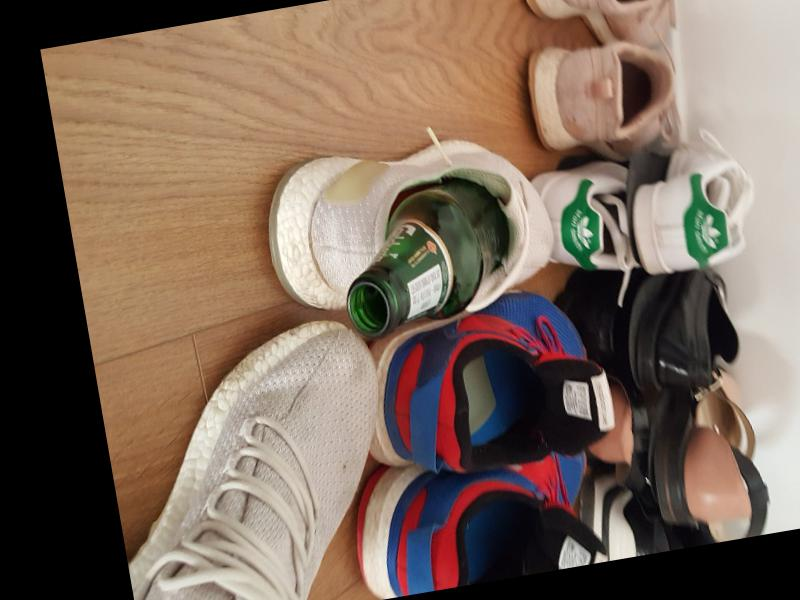Beer: (330, 174, 520, 339)
